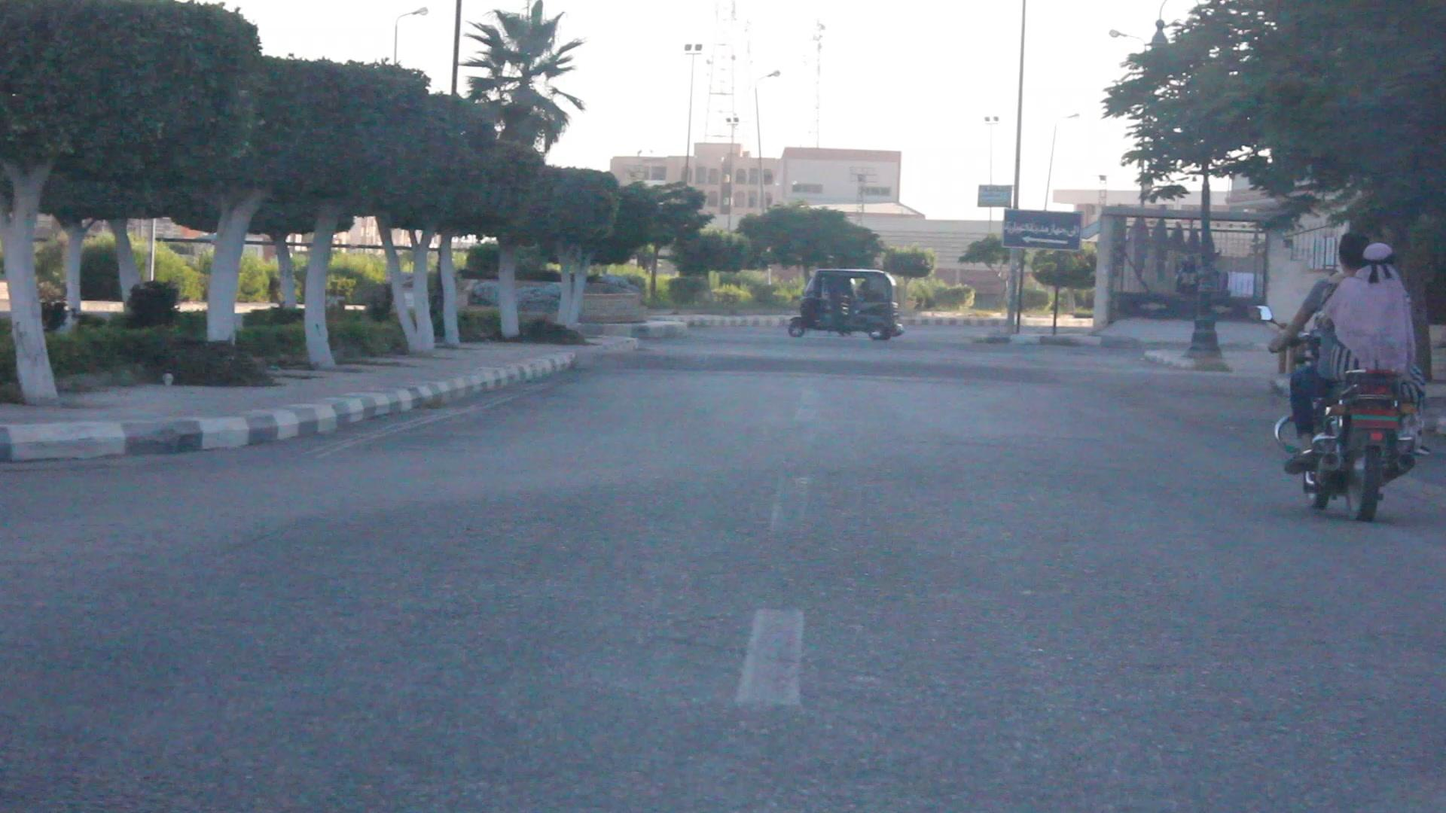Bump: (569, 348, 1289, 397)
